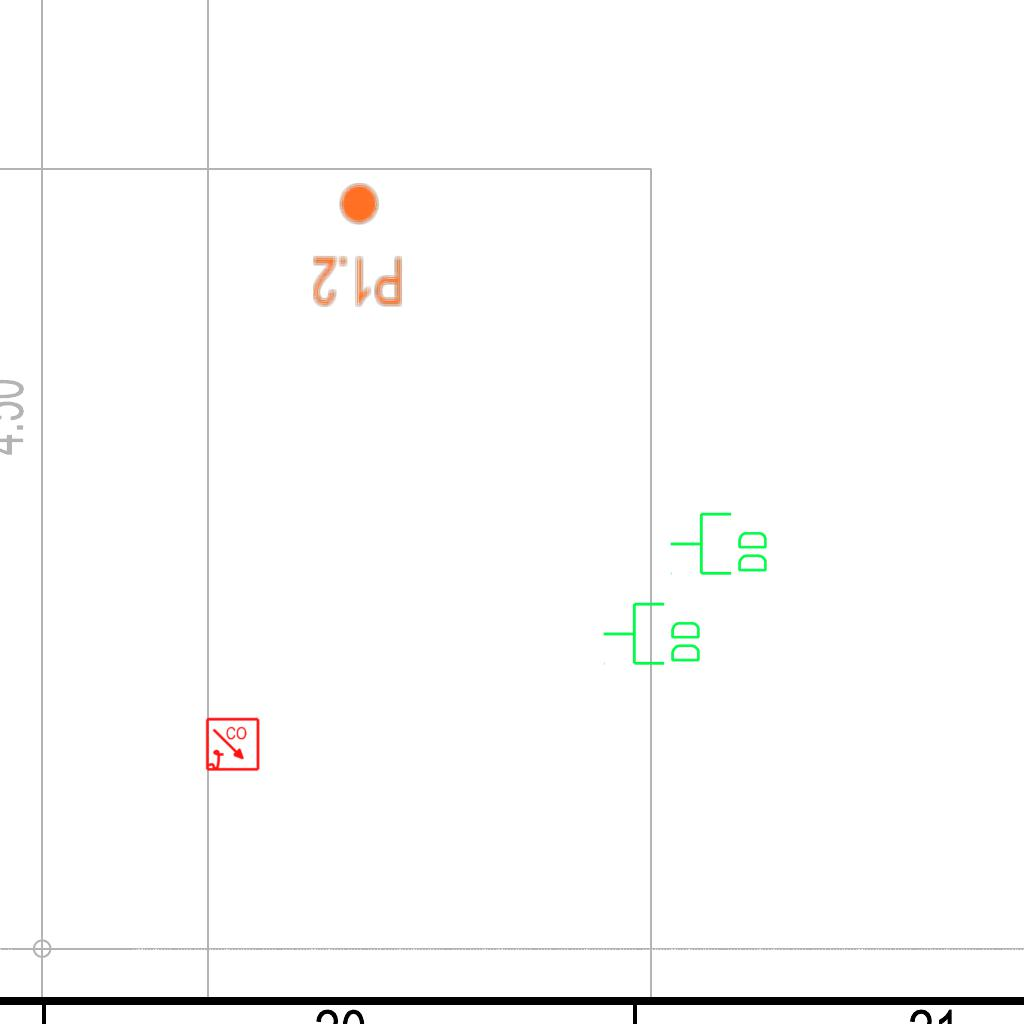Datenanschluss_zweifach: (601, 600, 704, 669), (668, 510, 771, 579)
Downlight_LED_Einbauleuchten_Flur: (311, 181, 404, 309)
ROA_Rauchmelder_optisch_mit_Signalgeber_(Sockelsirene): (205, 717, 261, 773)
